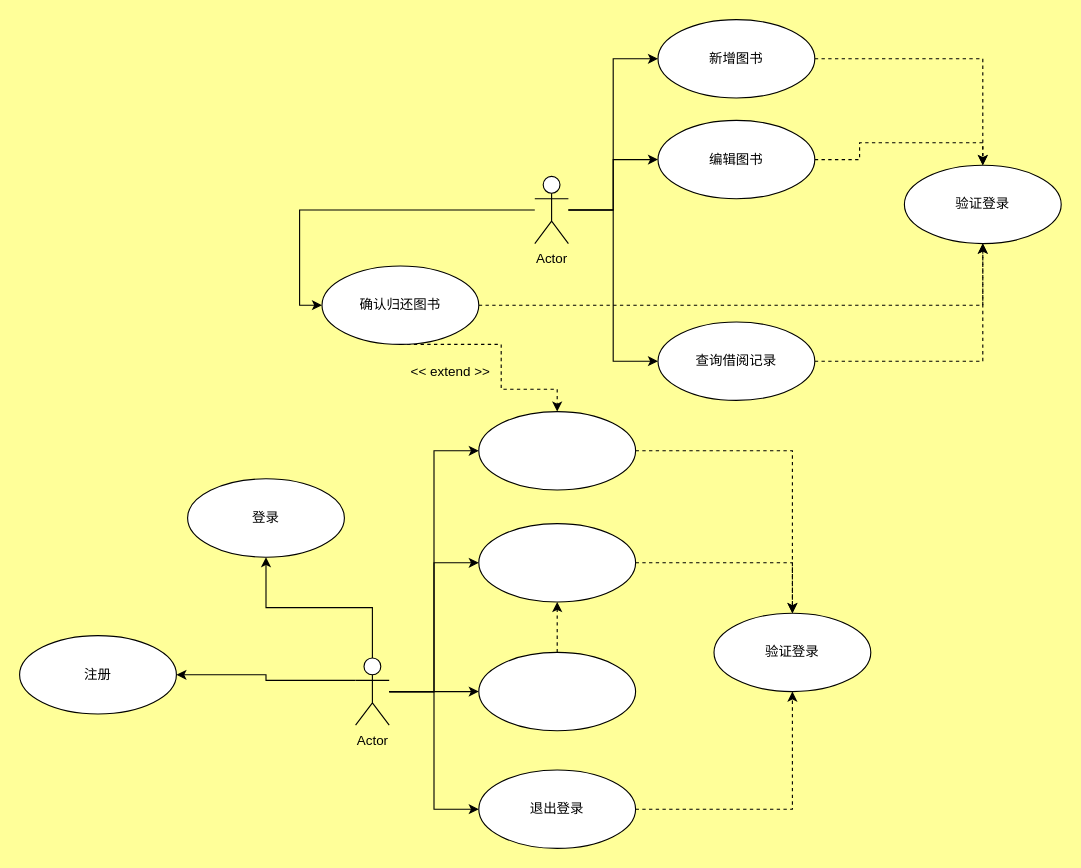
Some shapes in this 1081 by 868 pixel diagram are drawn without their labels. The box of each missing label's shape, as (x1, y1, x2, y2) in pixels:
借阅图书: (478, 522, 636, 602)
归还图书: (478, 410, 636, 490)
查询图书: (478, 651, 636, 731)
